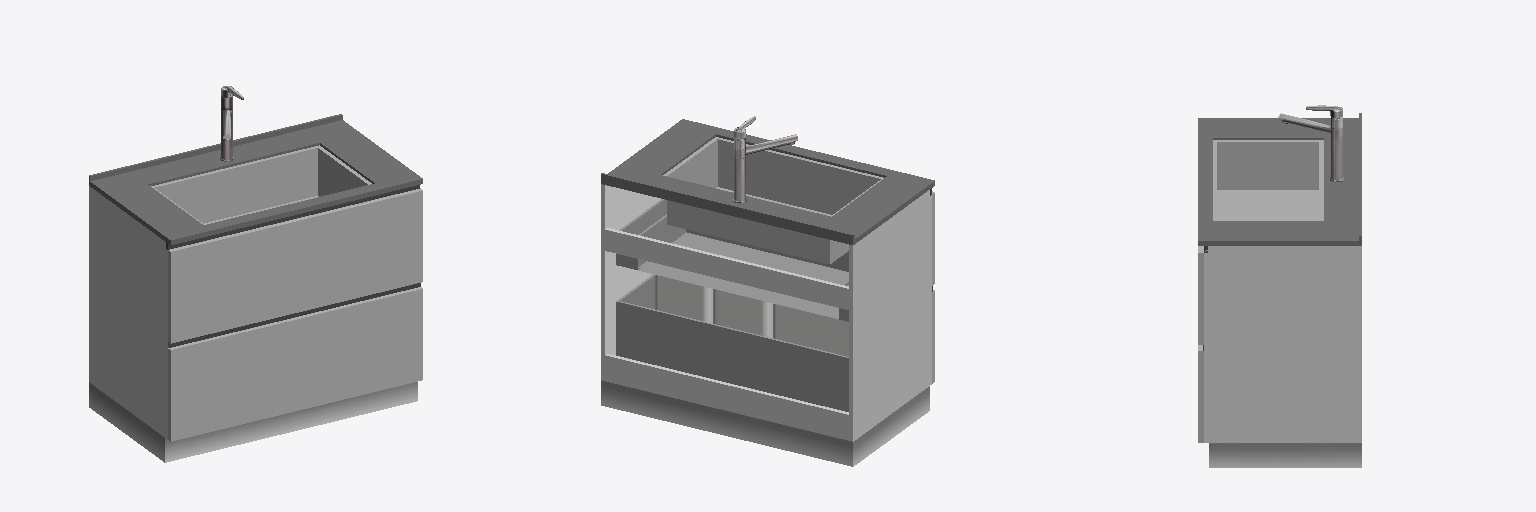
3 views of the same model, side by side, from view 1: azimuth 30°, elevation 25°; view 2: azimuth 150°, elevation 25°; view 3: azimuth 270°, elevation 25° (orthographic).
Visible parts, largest first — view 1: Mesh3 Group2 Base_105_lav_con_cest1 Model, Mesh36 Group14 Base_105_lav_con_cest1 Model, Mesh32 Gruppo_163_1 Group13 Base_105_lav_con_cest1 Model, Mesh103 Group31 Top_con_Lav_2_V_1_1 Base_105_lav_con_cest1 Model, Mesh99 Group30 Top_con_Lav_2_V_1_1 Base_105_lav_con_cest1 Model, Mesh21 Group12 Base_105_lav_con_cest1 Model, Mesh41 Group15 Base_105_lav_con_cest1 Model, Mesh52 Group18 Base_105_lav_con_cest1 Model, Mesh97 Group29 Top_con_Lav_2_V_1_1 Base_105_lav_con_cest1 Model, Mesh26 ANTA1 Group13 Base_105_lav_con_cest1 Model, Mesh24 ANTA Group13 Base_105_lav_con_cest1 Model, Mesh75 Group26 Miscelatore1 Base_105_lav_con_cest1 Model; view 2: Mesh32 Gruppo_163_1 Group13 Base_105_lav_con_cest1 Model, Mesh61 Group24 Group20 Base_105_lav_con_cest1 Model, Mesh103 Group31 Top_con_Lav_2_V_1_1 Base_105_lav_con_cest1 Model, Mesh21 Group12 Base_105_lav_con_cest1 Model, Mesh44 Group17 Base_105_lav_con_cest1 Model, Mesh99 Group30 Top_con_Lav_2_V_1_1 Base_105_lav_con_cest1 Model, Mesh30 B_60xh78_LAVAST_1 Group13 Base_105_lav_con_cest1 Model, Mesh28 B_60xh78_LAVAST_ Group13 Base_105_lav_con_cest1 Model, Mesh13 Group8 Group3 Base_105_lav_con_cest1 Model, Mesh34 Gruppo_163_2 Group13 Base_105_lav_con_cest1 Model, Mesh41 Group15 Base_105_lav_con_cest1 Model, Mesh52 Group18 Base_105_lav_con_cest1 Model (+7 smaller); view 3: Mesh34 Gruppo_163_2 Group13 Base_105_lav_con_cest1 Model, Mesh103 Group31 Top_con_Lav_2_V_1_1 Base_105_lav_con_cest1 Model, Mesh99 Group30 Top_con_Lav_2_V_1_1 Base_105_lav_con_cest1 Model, Mesh21 Group12 Base_105_lav_con_cest1 Model, Mesh52 Group18 Base_105_lav_con_cest1 Model, Mesh41 Group15 Base_105_lav_con_cest1 Model, Mesh75 Group26 Miscelatore1 Base_105_lav_con_cest1 Model, Mesh3 Group2 Base_105_lav_con_cest1 Model, Mesh36 Group14 Base_105_lav_con_cest1 Model.
Boxes of the visible parts, x1=… form: Mesh3 Group2 Base_105_lav_con_cest1 Model: x1=168, y1=188, x2=422, y2=343; Mesh36 Group14 Base_105_lav_con_cest1 Model: x1=168, y1=287, x2=422, y2=441; Mesh32 Gruppo_163_1 Group13 Base_105_lav_con_cest1 Model: x1=89, y1=186, x2=167, y2=439; Mesh103 Group31 Top_con_Lav_2_V_1_1 Base_105_lav_con_cest1 Model: x1=151, y1=145, x2=371, y2=224; Mesh99 Group30 Top_con_Lav_2_V_1_1 Base_105_lav_con_cest1 Model: x1=121, y1=127, x2=392, y2=237; Mesh21 Group12 Base_105_lav_con_cest1 Model: x1=89, y1=382, x2=417, y2=462; Mesh41 Group15 Base_105_lav_con_cest1 Model: x1=89, y1=174, x2=200, y2=244; Mesh52 Group18 Base_105_lav_con_cest1 Model: x1=313, y1=120, x2=422, y2=190; Mesh97 Group29 Top_con_Lav_2_V_1_1 Base_105_lav_con_cest1 Model: x1=119, y1=121, x2=312, y2=173; Mesh26 ANTA1 Group13 Base_105_lav_con_cest1 Model: x1=168, y1=283, x2=420, y2=347; Mesh24 ANTA Group13 Base_105_lav_con_cest1 Model: x1=166, y1=185, x2=419, y2=249; Mesh75 Group26 Miscelatore1 Base_105_lav_con_cest1 Model: x1=220, y1=96, x2=233, y2=161; Mesh32 Gruppo_163_1 Group13 Base_105_lav_con_cest1 Model: x1=849, y1=190, x2=931, y2=441; Mesh61 Group24 Group20 Base_105_lav_con_cest1 Model: x1=616, y1=300, x2=848, y2=411; Mesh103 Group31 Top_con_Lav_2_V_1_1 Base_105_lav_con_cest1 Model: x1=663, y1=137, x2=883, y2=263; Mesh21 Group12 Base_105_lav_con_cest1 Model: x1=601, y1=380, x2=929, y2=466; Mesh44 Group17 Base_105_lav_con_cest1 Model: x1=655, y1=275, x2=848, y2=356; Mesh99 Group30 Top_con_Lav_2_V_1_1 Base_105_lav_con_cest1 Model: x1=631, y1=126, x2=904, y2=237; Mesh30 B_60xh78_LAVAST_1 Group13 Base_105_lav_con_cest1 Model: x1=605, y1=354, x2=848, y2=435; Mesh28 B_60xh78_LAVAST_ Group13 Base_105_lav_con_cest1 Model: x1=605, y1=228, x2=848, y2=309; Mesh13 Group8 Group3 Base_105_lav_con_cest1 Model: x1=616, y1=232, x2=848, y2=321; Mesh34 Gruppo_163_2 Group13 Base_105_lav_con_cest1 Model: x1=601, y1=184, x2=660, y2=380; Mesh41 Group15 Base_105_lav_con_cest1 Model: x1=823, y1=173, x2=934, y2=244; Mesh52 Group18 Base_105_lav_con_cest1 Model: x1=601, y1=119, x2=711, y2=190; Mesh34 Gruppo_163_2 Group13 Base_105_lav_con_cest1 Model: x1=1204, y1=246, x2=1361, y2=442; Mesh103 Group31 Top_con_Lav_2_V_1_1 Base_105_lav_con_cest1 Model: x1=1213, y1=140, x2=1323, y2=220; Mesh99 Group30 Top_con_Lav_2_V_1_1 Base_105_lav_con_cest1 Model: x1=1198, y1=133, x2=1358, y2=226; Mesh21 Group12 Base_105_lav_con_cest1 Model: x1=1209, y1=443, x2=1361, y2=467; Mesh52 Group18 Base_105_lav_con_cest1 Model: x1=1198, y1=227, x2=1361, y2=245; Mesh41 Group15 Base_105_lav_con_cest1 Model: x1=1198, y1=118, x2=1358, y2=132; Mesh75 Group26 Miscelatore1 Base_105_lav_con_cest1 Model: x1=1330, y1=116, x2=1343, y2=181; Mesh3 Group2 Base_105_lav_con_cest1 Model: x1=1198, y1=246, x2=1203, y2=344; Mesh36 Group14 Base_105_lav_con_cest1 Model: x1=1198, y1=345, x2=1203, y2=442.
Bounding box in the file's own units: 1.05 × 1.19 × 0.59.
Materials: 13 (3 with a texture image).